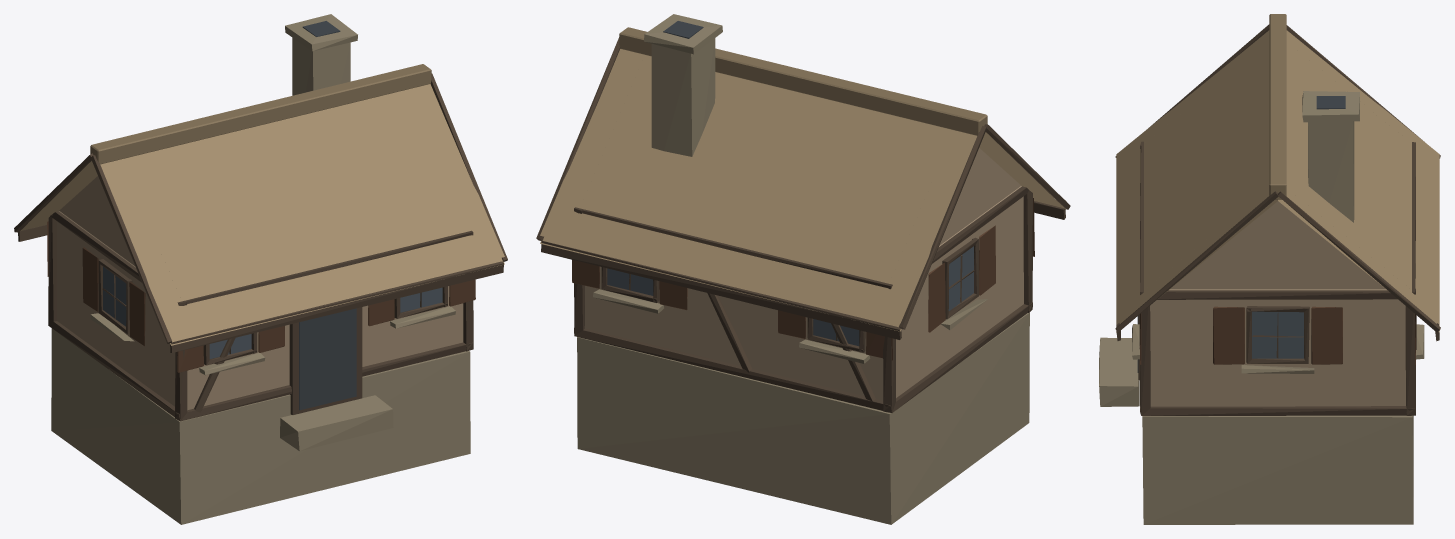
File: cottage-lod1.glb
3 views of the same model, side by side, from view 1: azimuth 30°, elevation 25°; view 2: azimuth 150°, elevation 25°; view 3: azimuth 270°, elevation 25° (orthographic). The views are drawn at different scales.
Size of the model in its own units: 7.14 by 7.5 by 5.92.
